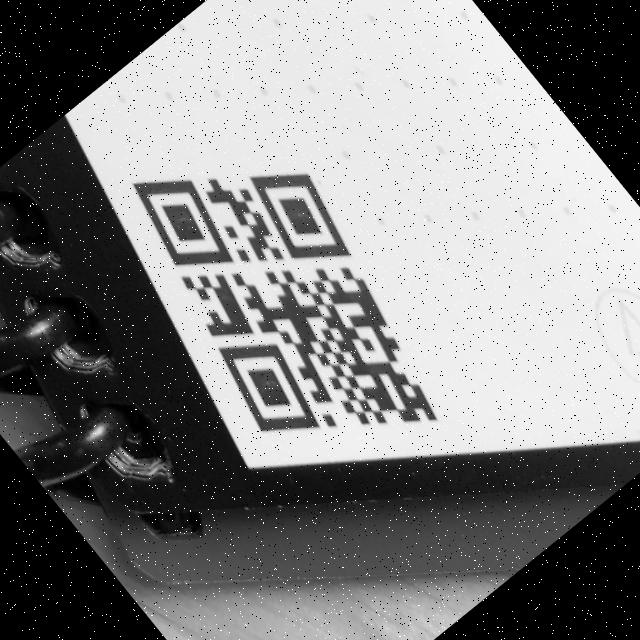QR-codes: (88, 90, 485, 512)
